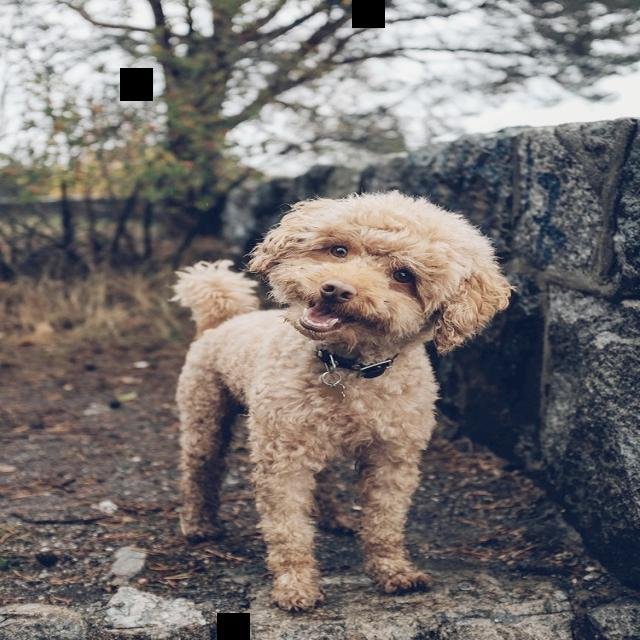adult_dog: (169, 194, 515, 616)
